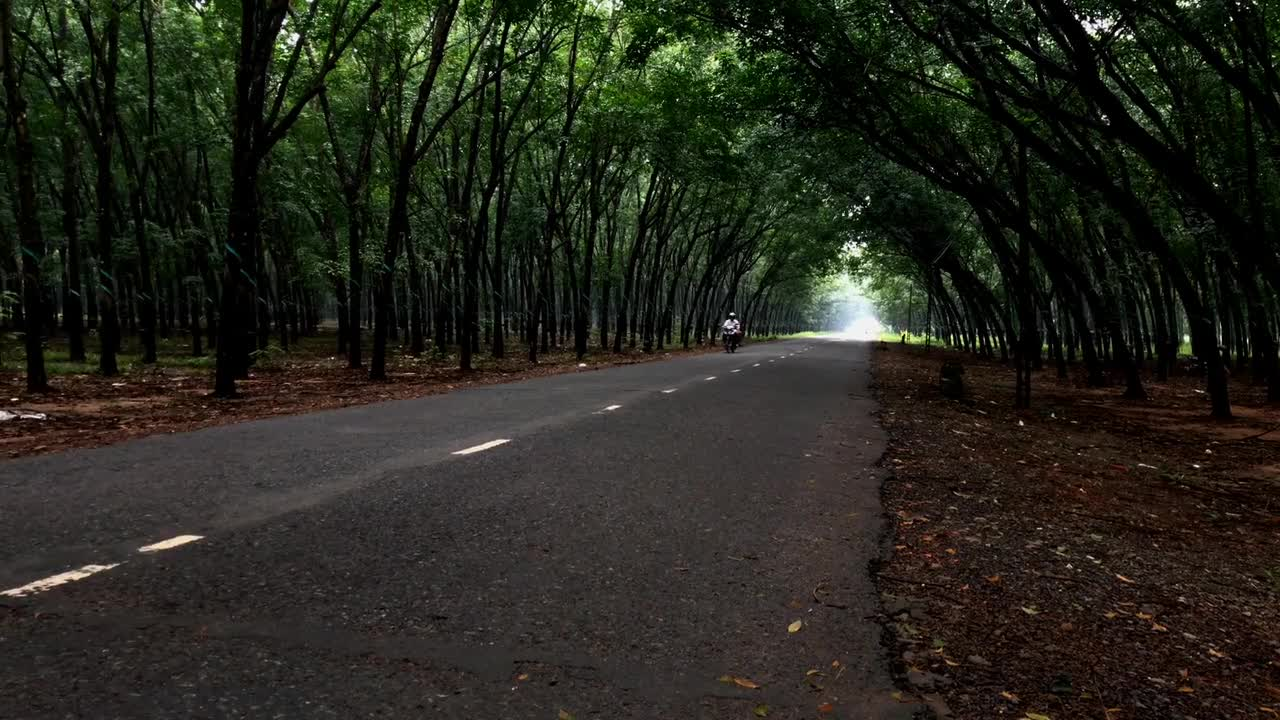motorbicycle: (719, 310, 744, 358)
